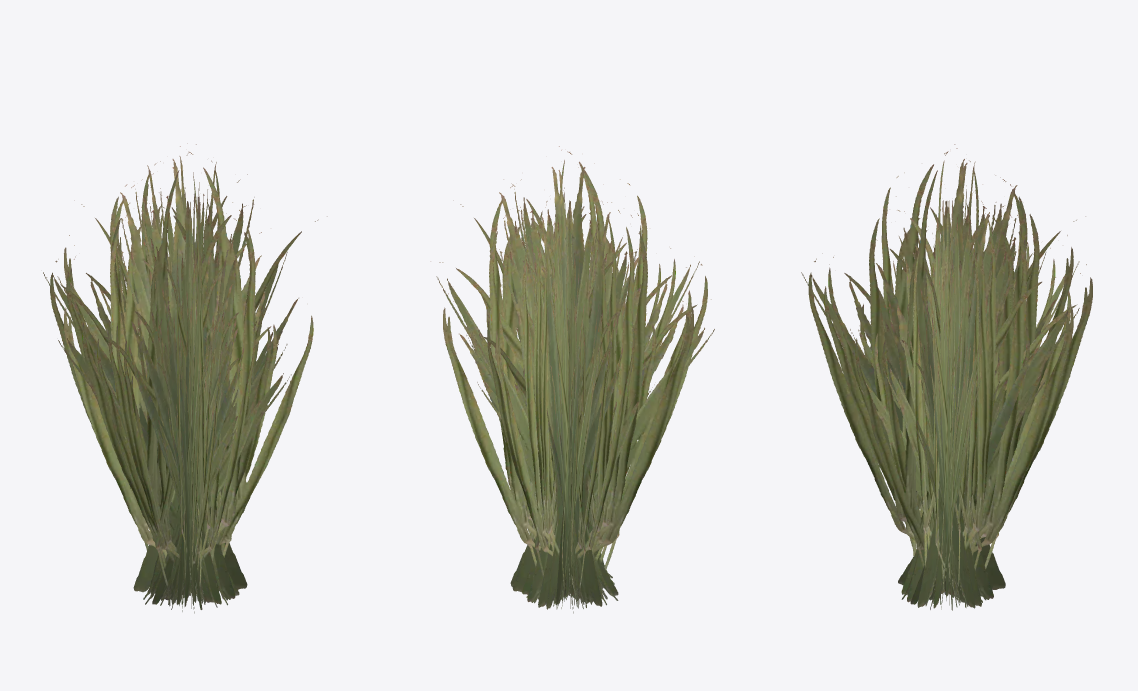
File: hierba_mechones.glb
The picture shows the model from 3 angles, left to right: view 1: azimuth 30°, elevation 25°; view 2: azimuth 150°, elevation 25°; view 3: azimuth 270°, elevation 25°; orthographic projection.
Parts seen in each view (by area): view 1: mechon_2, mechon_4, mechon_1, mechon_5, mechon_3, mechon_0, mechon_7, mechon_6, mechon_lod_0; view 2: mechon_1, mechon_0, mechon_4, mechon_3, mechon_5, mechon_2, mechon_lod_0, mechon_7, mechon_6; view 3: mechon_4, mechon_2, mechon_1, mechon_3, mechon_5, mechon_0, mechon_7, mechon_lod_0, mechon_6.
Part boxes in pixels (x1,y1,x2,y2): mechon_2: [57, 143, 313, 609]; mechon_4: [50, 172, 255, 604]; mechon_1: [107, 160, 271, 609]; mechon_5: [43, 174, 291, 613]; mechon_3: [74, 182, 327, 611]; mechon_0: [64, 159, 235, 597]; mechon_7: [46, 250, 287, 606]; mechon_6: [141, 243, 226, 605]; mechon_lod_0: [64, 156, 215, 599]; mechon_1: [486, 179, 654, 609]; mechon_0: [443, 167, 693, 597]; mechon_4: [502, 163, 707, 607]; mechon_3: [430, 167, 647, 608]; mechon_5: [466, 179, 714, 613]; mechon_2: [436, 146, 691, 607]; mechon_lod_0: [496, 168, 693, 599]; mechon_7: [470, 277, 711, 608]; mechon_6: [520, 245, 616, 605]; mechon_4: [808, 200, 1020, 608]; mechon_2: [824, 144, 1079, 607]; mechon_1: [860, 160, 1026, 609]; mechon_3: [862, 172, 1085, 609]; mechon_5: [801, 184, 1079, 610]; mechon_0: [901, 159, 1073, 597]; mechon_7: [850, 232, 1090, 605]; mechon_lod_0: [954, 163, 1092, 596]; mechon_6: [895, 245, 979, 608].
Size of what is drawn, in the model's own units: 0.34 by 0.55 by 0.34.
Materials: 1 (1 with a texture image).
